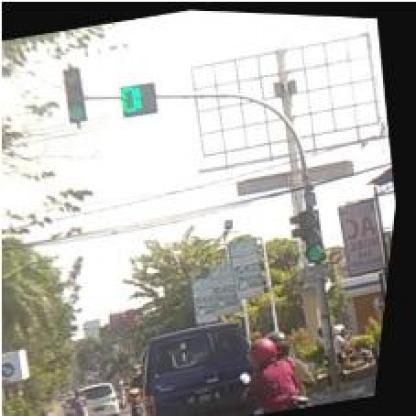green: (299, 204, 335, 261), (58, 64, 92, 123)
